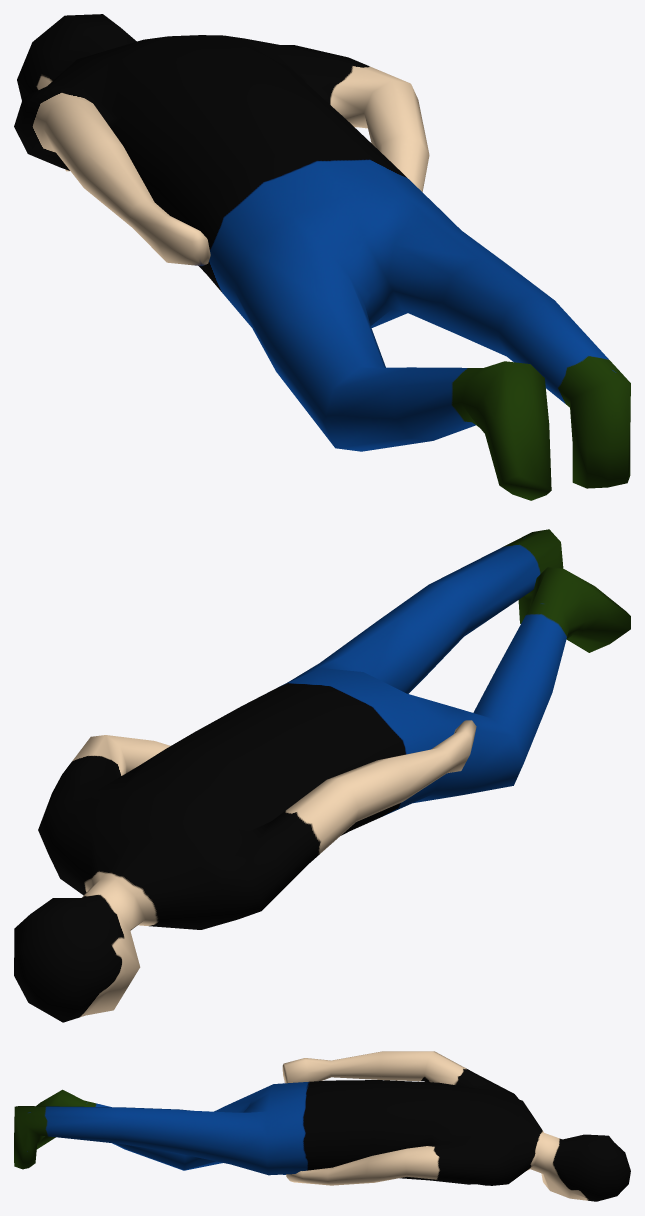
File: lowPolyPaul.dae
The picture shows the model from 3 angles, top to bottom: view 1: azimuth 30°, elevation 25°; view 2: azimuth 150°, elevation 25°; view 3: azimuth 270°, elevation 25°; orthographic projection. The views are drawn at different scales.
Visible parts, largest first — view 1: paulModel; view 2: paulModel; view 3: paulModel.
Boxes of the visible parts, x1,y1,x2,y2 form: paulModel: (14, 14, 630, 500); paulModel: (14, 529, 630, 1022); paulModel: (14, 1051, 630, 1201).
Bounding box in the file's own units: 0.8654 × 0.4678 × 2.41.
1 material, 1 textured.
